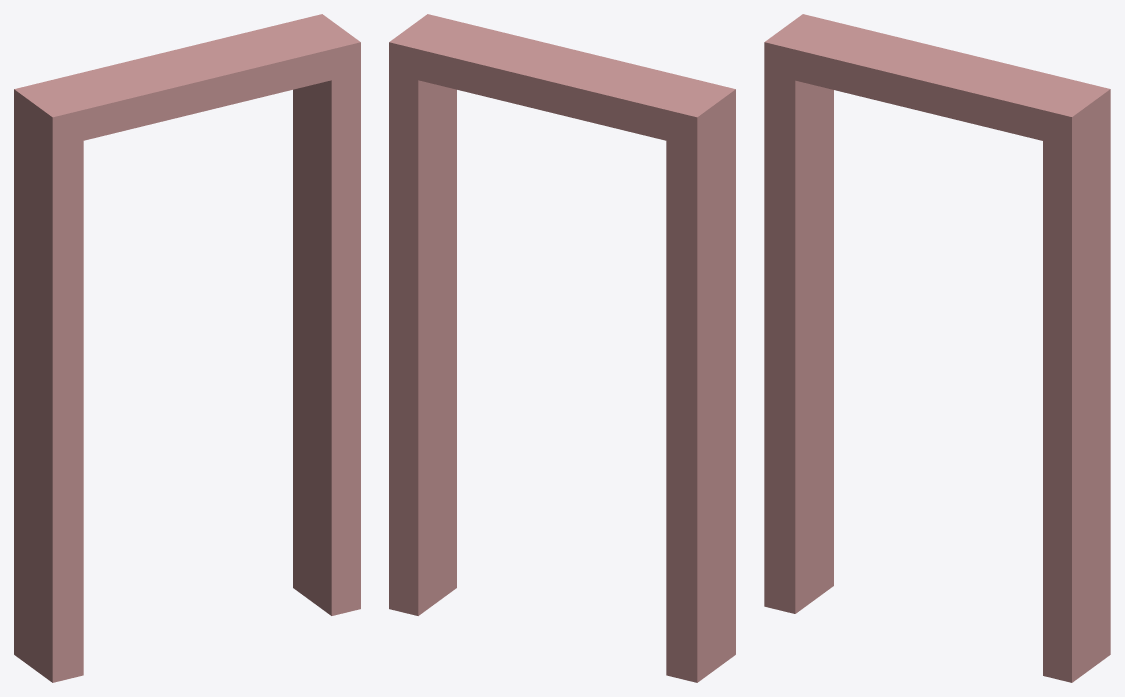
Rendered from doorframe_1.fbx.
3 views of the same model, side by side, from view 1: azimuth 30°, elevation 25°; view 2: azimuth 150°, elevation 25°; view 3: azimuth 330°, elevation 25° (orthographic).
Parts seen in each view (by area): view 1: door_framke_simpler; view 2: door_framke_simpler; view 3: door_framke_simpler.
Boxes of the visible parts, <box> form: door_framke_simpler: <box>14,14,360,682</box>; door_framke_simpler: <box>389,14,735,682</box>; door_framke_simpler: <box>764,14,1110,682</box>.
Bounding box in the file's own units: 1.24 × 2.18 × 0.2692.
